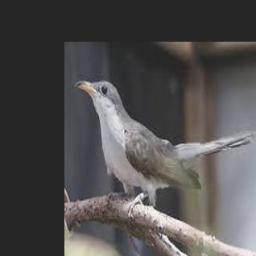Cuckoo: (75, 80, 256, 216)
